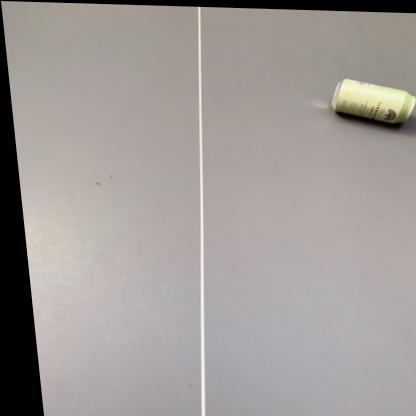trash: (330, 79, 415, 123)
